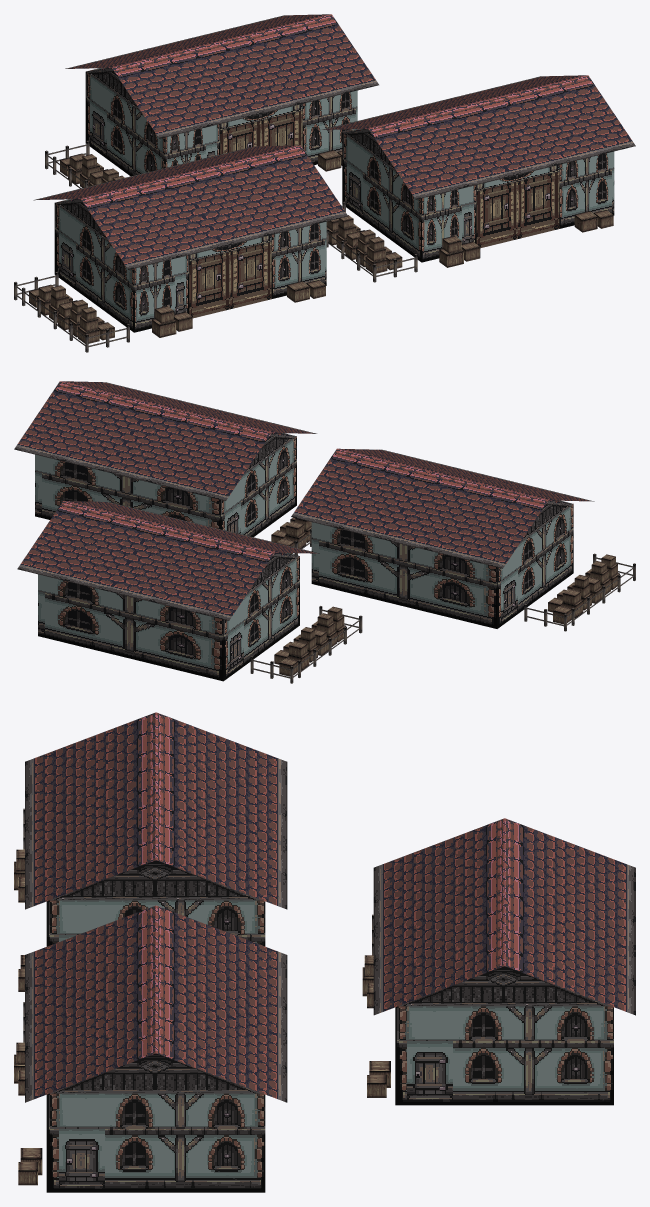
Rendered from warehouse_cluster.glb.
3 renders of one model, top to bottom at view 1: azimuth 30°, elevation 25°; view 2: azimuth 150°, elevation 25°; view 3: azimuth 270°, elevation 25°, orthographic. The views are drawn at different scales.
Visible parts, largest first — view 1: Ware_RoofFront.001, Ware_RoofFront, Ware_RoofFront.002, Ware_Left, Ware_Left.001, Ware_Left.002, Ware_FrontRight.001, Ware_FrontRight, Ware_FrontLeft.001, Ware_FrontLeft, Ware_FrontRight.002, Ware_RoofBack (+15 smaller); view 2: Ware_RoofBack.001, Ware_RoofBack.002, Ware_RoofBack, Ware_Back, Ware_Back.002, Ware_Back.001, Ware_Left, Ware_Left.002, Ware_Left.001, Ware_RoofFront, Ware_RoofFront.002, Ware_RoofFront.001 (+3 smaller); view 3: Ware_Right.001, Ware_Right.002, Ware_RoofBack, Ware_RoofBack.002, Ware_RoofBack.001, Ware_RoofFront.002, Ware_RoofFront, Ware_RoofFront.001, Ware_Right, Ware_GableRight.002, Ware_GableRight, Ware_GableRight.001.
Boxes of the visible parts, x1,y1,x2,y2 form: Ware_RoofFront.001: [368, 75, 635, 199]; Ware_RoofFront: [81, 145, 347, 269]; Ware_RoofFront.002: [112, 14, 378, 138]; Ware_Left: [54, 203, 134, 332]; Ware_Left.001: [342, 133, 421, 262]; Ware_Left.002: [85, 72, 165, 176]; Ware_FrontRight.001: [559, 151, 614, 228]; Ware_FrontRight: [271, 221, 326, 298]; Ware_FrontLeft.001: [421, 185, 476, 262]; Ware_FrontLeft: [134, 255, 189, 332]; Ware_FrontRight.002: [302, 90, 357, 165]; Ware_RoofBack: [33, 145, 299, 200]; Ware_RoofBack.001: [14, 381, 271, 500]; Ware_RoofBack.002: [17, 501, 274, 620]; Ware_RoofBack: [291, 449, 548, 568]; Ware_Back: [311, 522, 497, 628]; Ware_Back.002: [38, 574, 223, 681]; Ware_Back.001: [35, 454, 220, 528]; Ware_Left: [497, 504, 573, 628]; Ware_Left.002: [223, 556, 299, 680]; Ware_Left.001: [220, 436, 296, 537]; Ware_RoofFront: [337, 448, 594, 501]; Ware_RoofFront.002: [64, 501, 319, 553]; Ware_RoofFront.001: [61, 381, 316, 433]; Ware_Right.001: [46, 1093, 265, 1192]; Ware_Right.002: [395, 1006, 613, 1105]; Ware_RoofBack: [156, 712, 287, 909]; Ware_RoofBack.002: [504, 818, 635, 1015]; Ware_RoofBack.001: [156, 905, 287, 1102]; Ware_RoofFront.002: [373, 818, 504, 1015]; Ware_RoofFront: [25, 712, 155, 909]; Ware_RoofFront.001: [25, 905, 155, 1102]; Ware_Right: [46, 900, 265, 946]; Ware_GableRight.002: [399, 966, 610, 1006]; Ware_GableRight: [50, 860, 261, 900]; Ware_GableRight.001: [50, 1053, 262, 1093].
Size of the model in its own units: 39.98 by 7.5 by 28.44.
3 materials, 3 textured.
